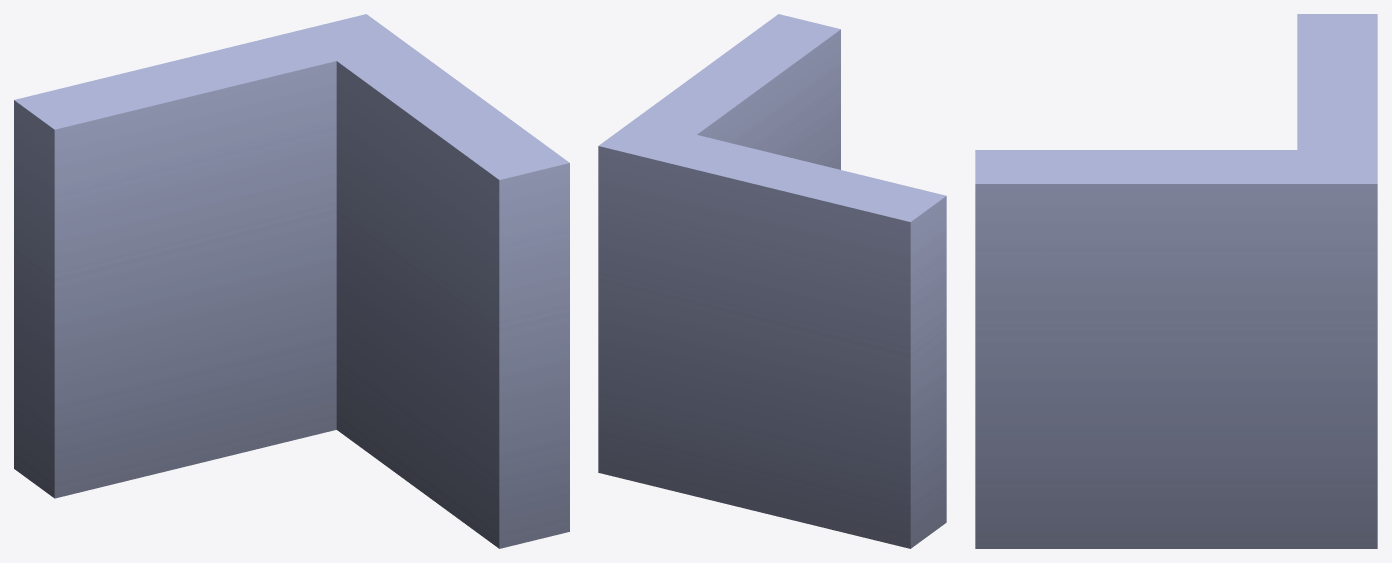
The model's file is wall-corner.fbx.
3 views of the same model, side by side, from view 1: azimuth 30°, elevation 25°; view 2: azimuth 150°, elevation 25°; view 3: azimuth 270°, elevation 25° (orthographic). The views are drawn at different scales.
Visible parts, largest first — view 1: wall-corner; view 2: wall-corner; view 3: wall-corner.
Boxes of the visible parts, x1=… form: wall-corner: x1=14, y1=14, x2=569, y2=548; wall-corner: x1=598, y1=14, x2=946, y2=548; wall-corner: x1=975, y1=14, x2=1377, y2=548.
Size of the model in its own units: 100 by 100 by 100.
